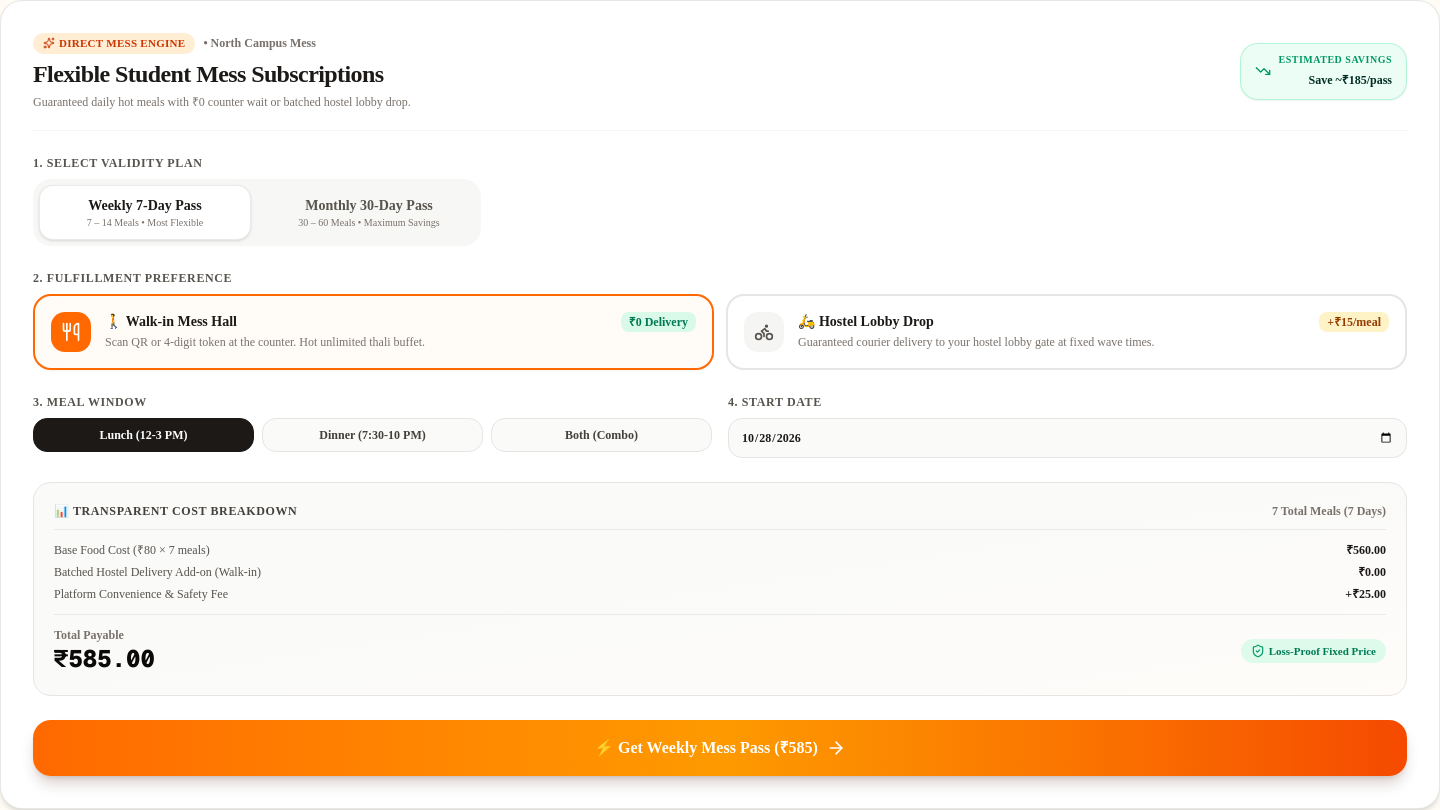
Test case: WeeklyMessSelector Component › updates pricing when switching to Monthly 30-Day Pass
The width and height of the screenshot is (1440, 810).
Click the button with test id "tab-monthly": coordinates (369, 212) [263,184,475,240]
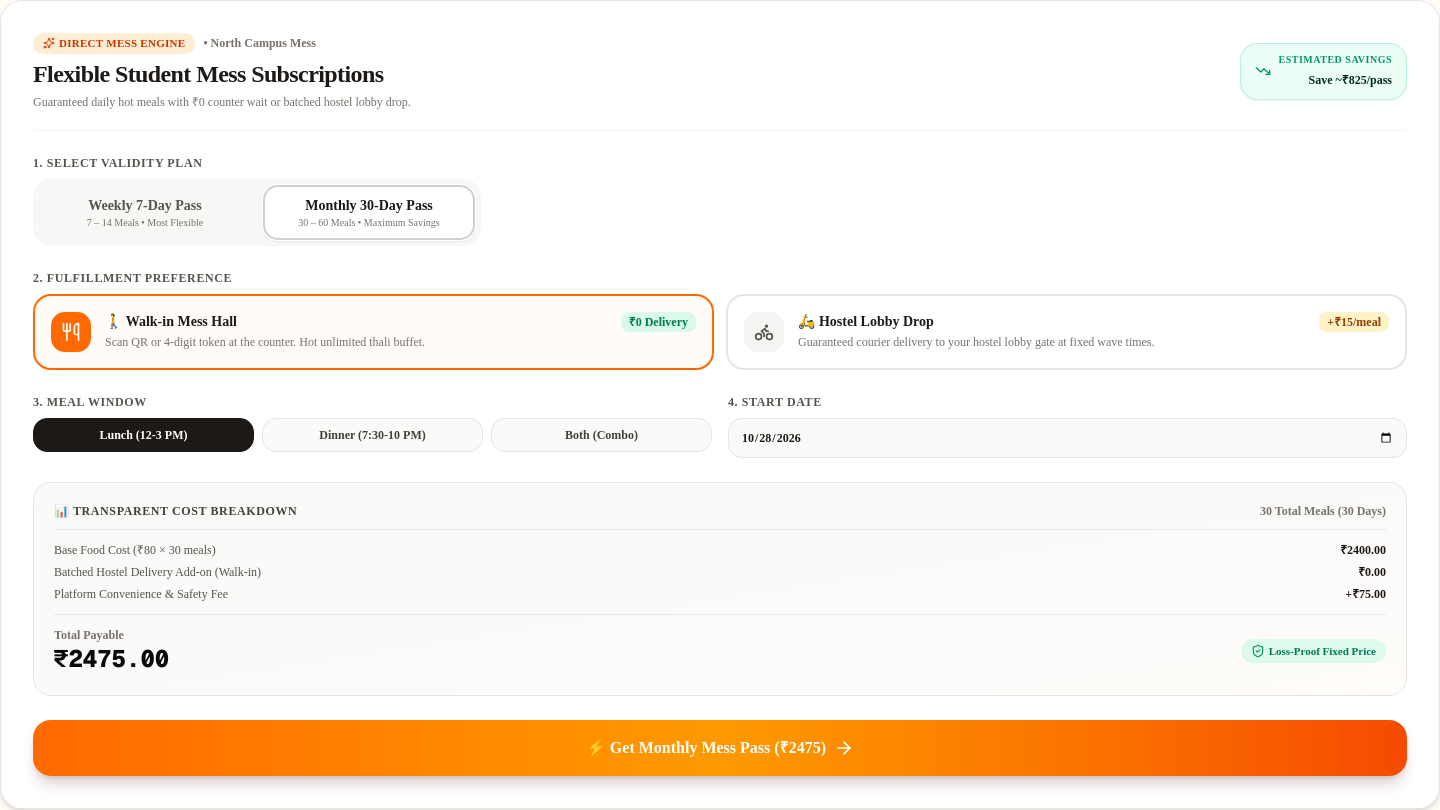
Result: the text "₹2475.00" is shown at [54,643,169,674]
